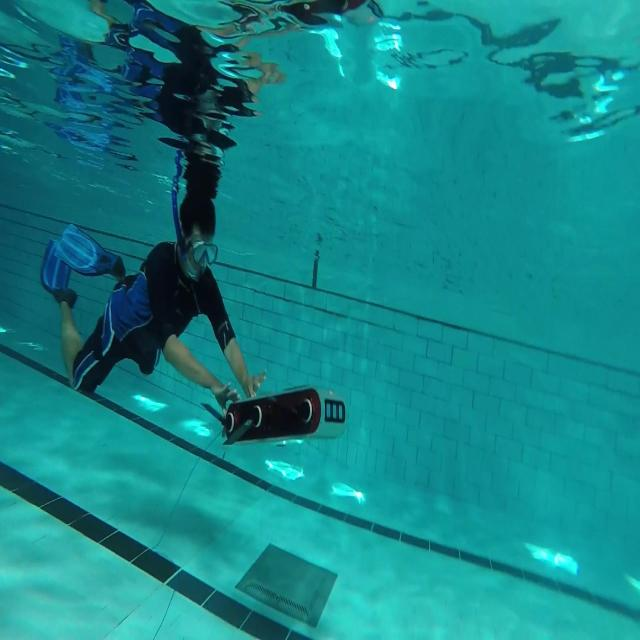human: (40, 158, 266, 420)
